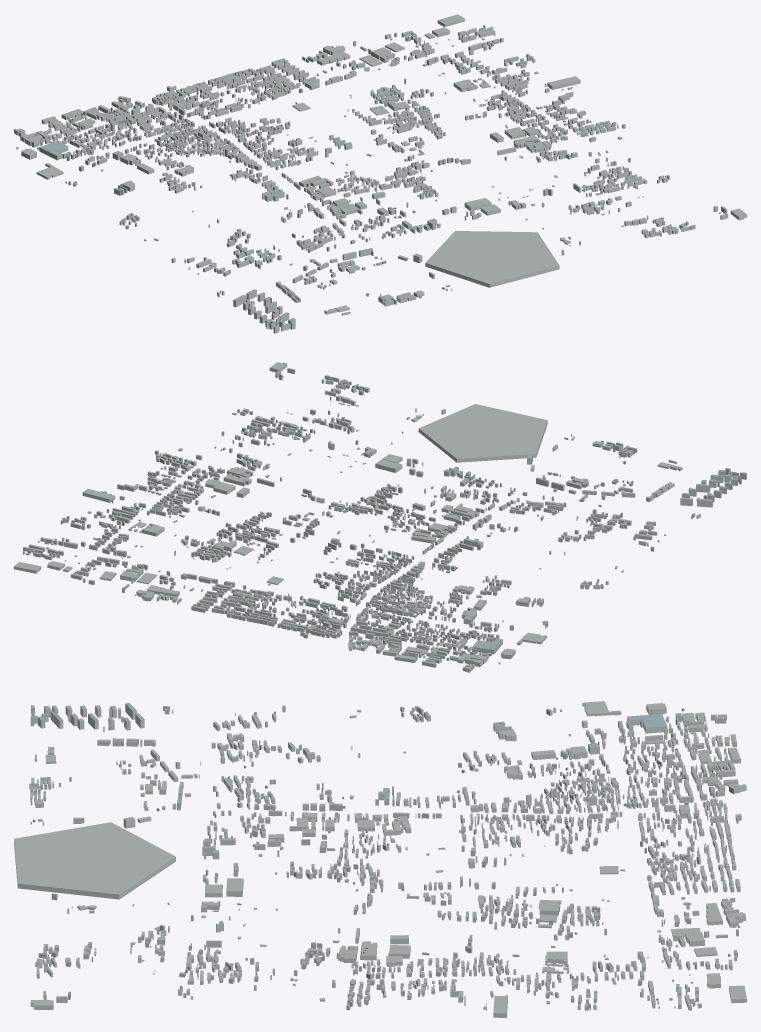
File: far.glb
3 views of the same model, one above another, from view 1: azimuth 30°, elevation 25°; view 2: azimuth 150°, elevation 25°; view 3: azimuth 270°, elevation 25° (orthographic). The views are drawn at different scales.
Size of the model in its own units: 2200 by 33.53 by 2168.
